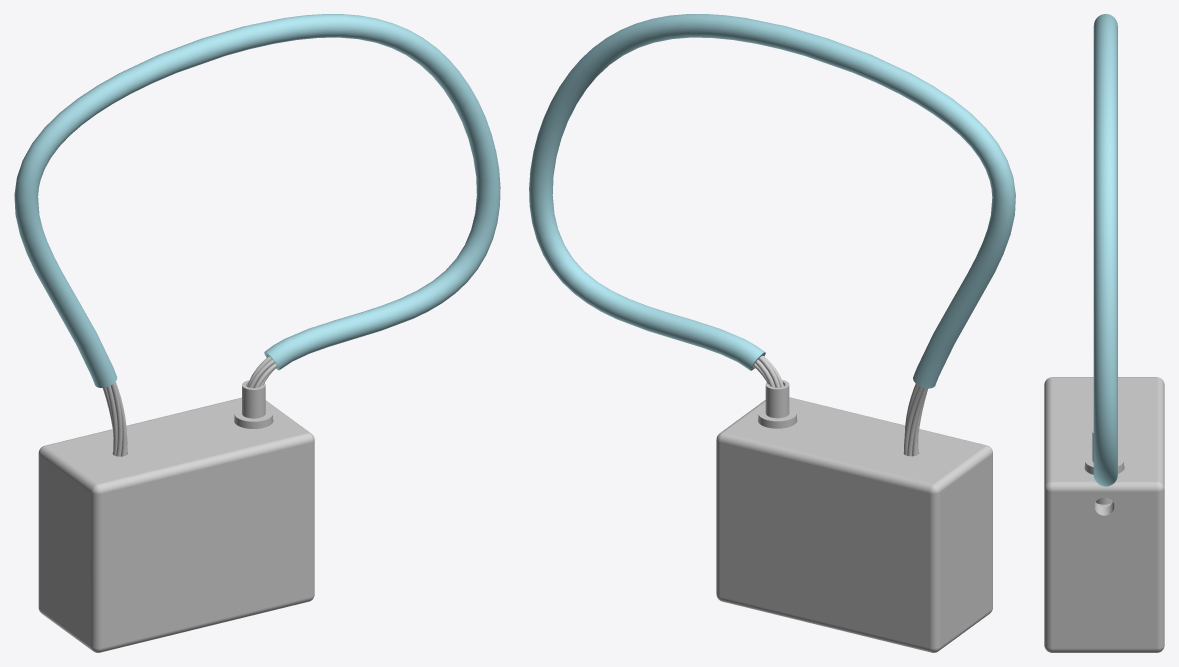
File: assemble.glb
3 renders of one model, left to right at view 1: azimuth 30°, elevation 25°; view 2: azimuth 150°, elevation 25°; view 3: azimuth 270°, elevation 25°, orthographic.
Visible parts, largest first — view 1: alum_body, cover, rope, end; view 2: alum_body, cover, rope, end; view 3: alum_body, cover, end.
Part boxes in pixels (x1,y1,x2,y2): alum_body: [38, 397, 314, 652]; cover: [14, 14, 500, 387]; rope: [102, 356, 277, 456]; end: [234, 380, 272, 428]; alum_body: [716, 397, 992, 652]; cover: [529, 14, 1015, 388]; rope: [753, 355, 927, 456]; end: [758, 380, 796, 428]; alum_body: [1044, 377, 1164, 652]; cover: [1093, 14, 1117, 486]; end: [1085, 429, 1123, 506].
Bounding box in the file's own units: 0.141 × 0.1582 × 0.03.
